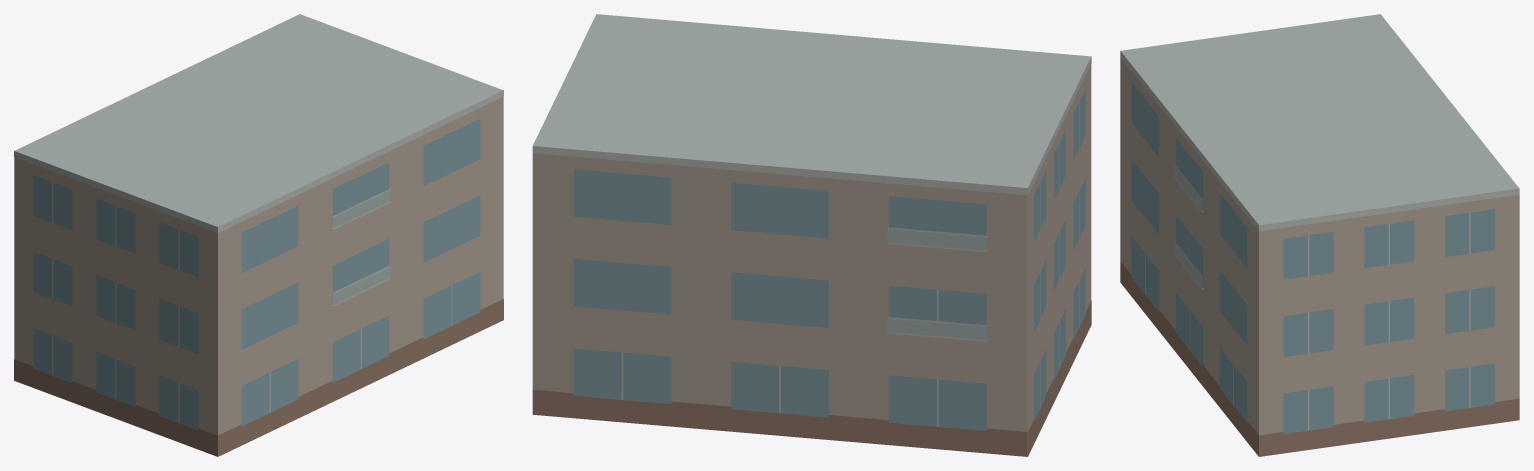
Rendered from survey-upis-32703732.glb.
3 renders of one model, left to right at view 1: azimuth 30°, elevation 25°; view 2: azimuth 150°, elevation 25°; view 3: azimuth 270°, elevation 25°, orthographic. The views are drawn at different scales.
Visible parts, largest first — view 1: survey-upis-32703732.tmp; view 2: survey-upis-32703732.tmp; view 3: survey-upis-32703732.tmp.
Part boxes in pixels (bbox=[...]): survey-upis-32703732.tmp: bbox=[14, 14, 503, 456]; survey-upis-32703732.tmp: bbox=[532, 14, 1091, 456]; survey-upis-32703732.tmp: bbox=[1120, 14, 1519, 456].
Bounding box in the file's own units: 17.9 × 9.15 × 14.29.
